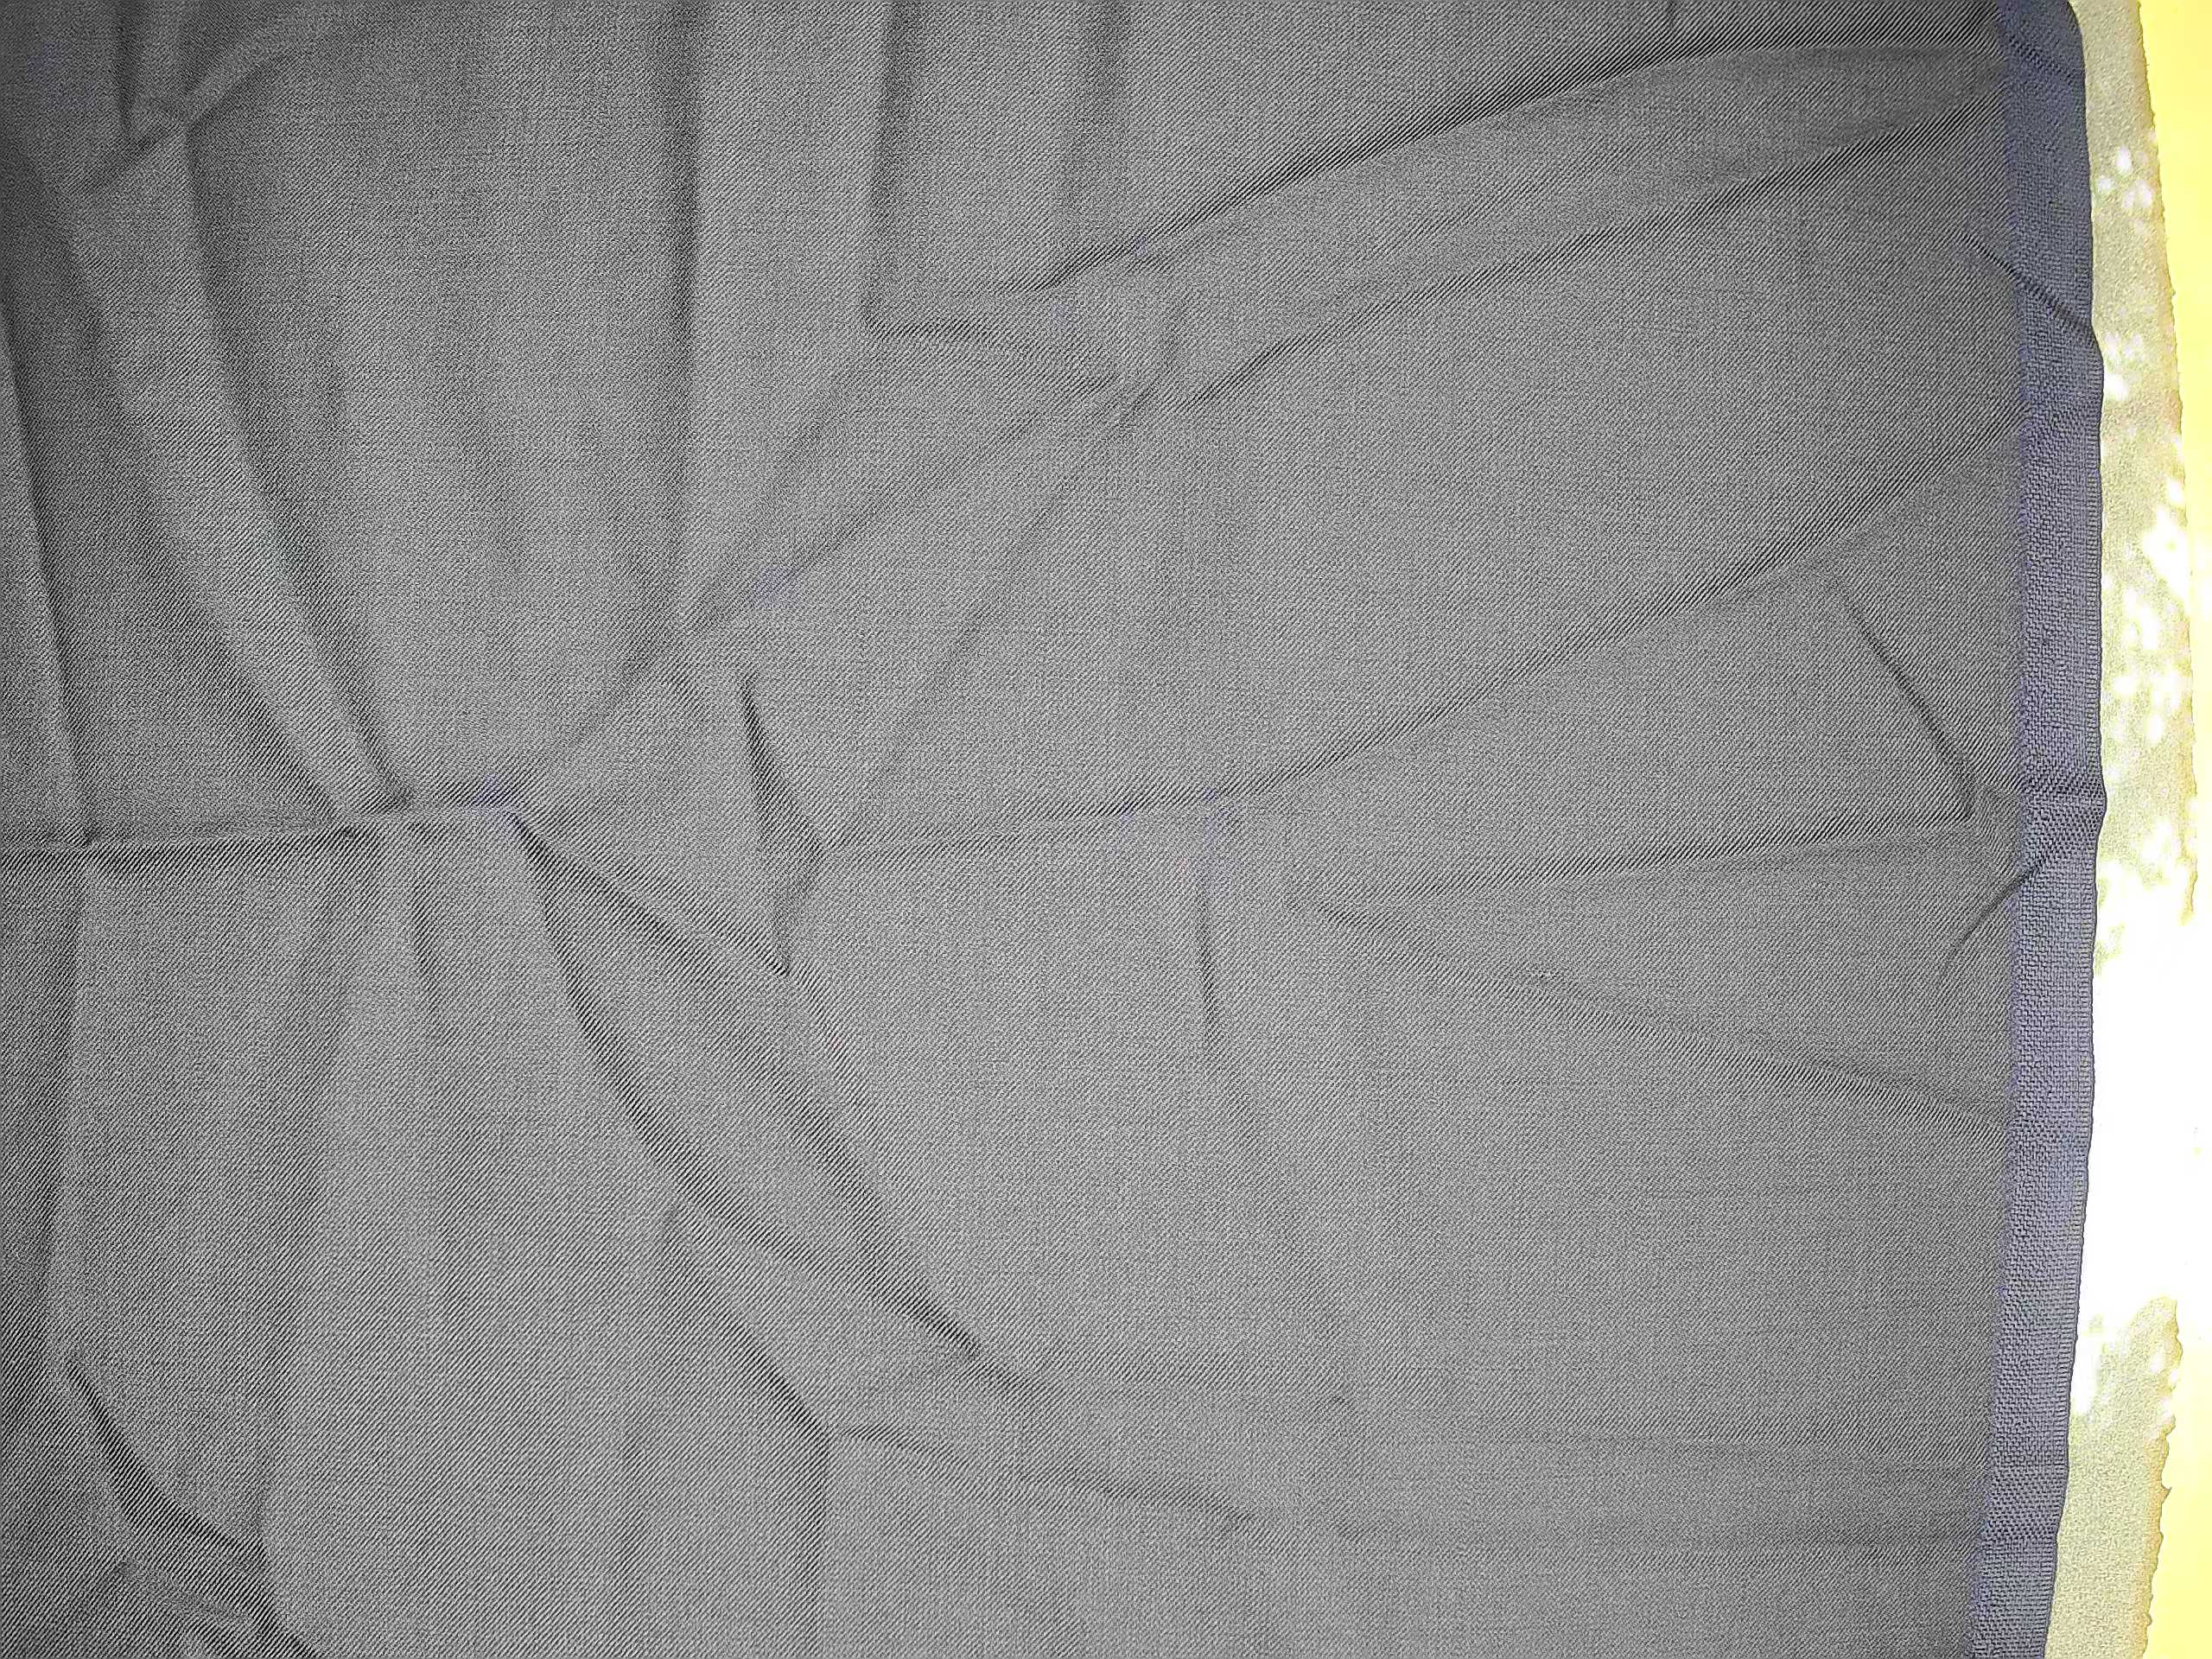others: (1470, 936, 1629, 1009)
